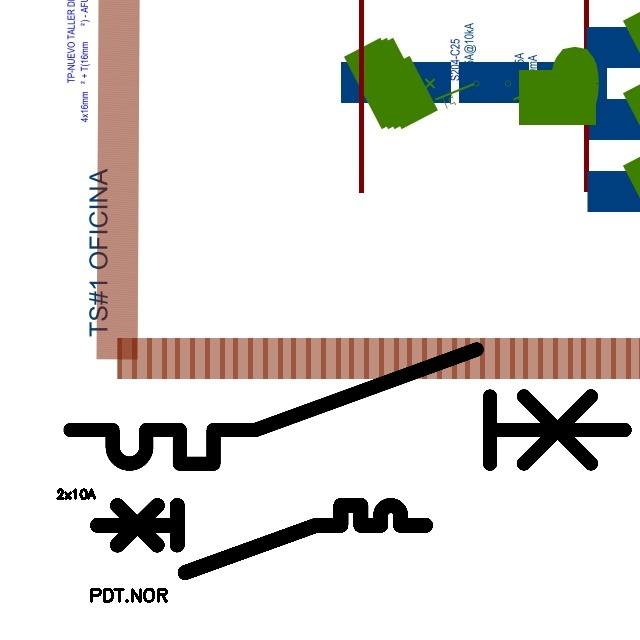interruptor_termomagnetico: (56, 335, 639, 478), (89, 497, 434, 581)
